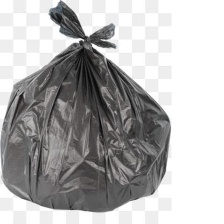plastic_bag: (0, 0, 180, 216)
